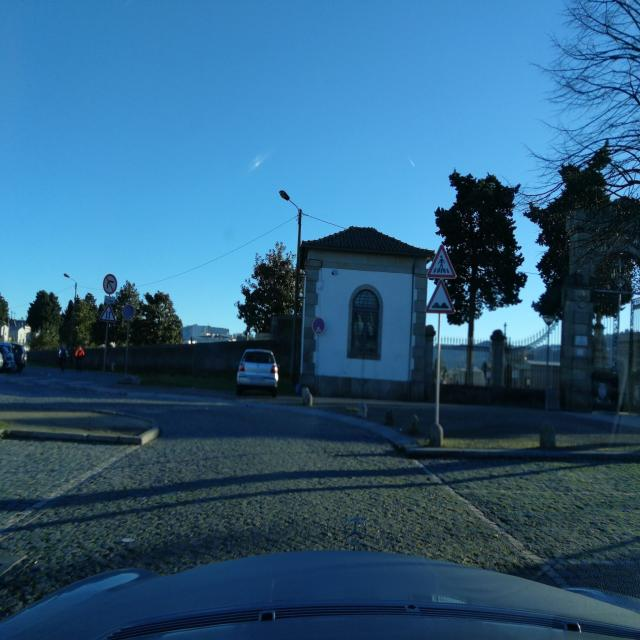forb_stopping: (123, 304, 135, 320)
